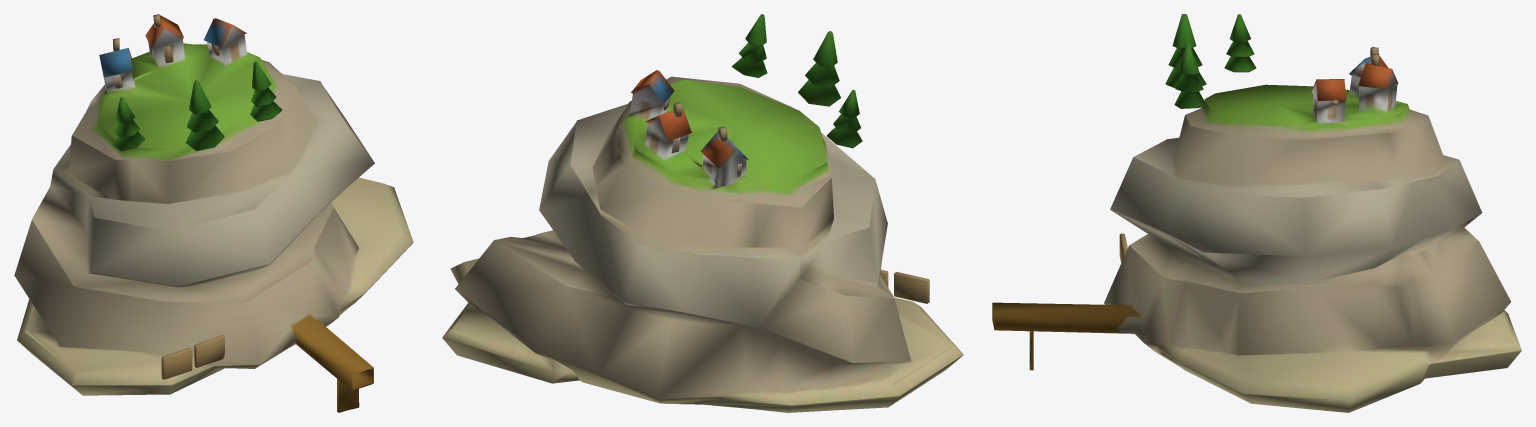
Rendered from tripo.glb.
3 renders of one model, left to right at view 1: azimuth 30°, elevation 25°; view 2: azimuth 150°, elevation 25°; view 3: azimuth 270°, elevation 25°, orthographic. The views are drawn at different scales.
Parts seen in each view (by area): view 1: tripo_node_e0b62477-c026-4f7d-b3fd-74f328983ab2; view 2: tripo_node_e0b62477-c026-4f7d-b3fd-74f328983ab2; view 3: tripo_node_e0b62477-c026-4f7d-b3fd-74f328983ab2.
Boxes of the visible parts, x1=… form: tripo_node_e0b62477-c026-4f7d-b3fd-74f328983ab2: x1=14, y1=14, x2=413, y2=412; tripo_node_e0b62477-c026-4f7d-b3fd-74f328983ab2: x1=442, y1=14, x2=963, y2=412; tripo_node_e0b62477-c026-4f7d-b3fd-74f328983ab2: x1=992, y1=14, x2=1521, y2=412.
Bounding box in the file's own units: 0.9237 × 0.6536 × 1.
1 material, 1 textured.
